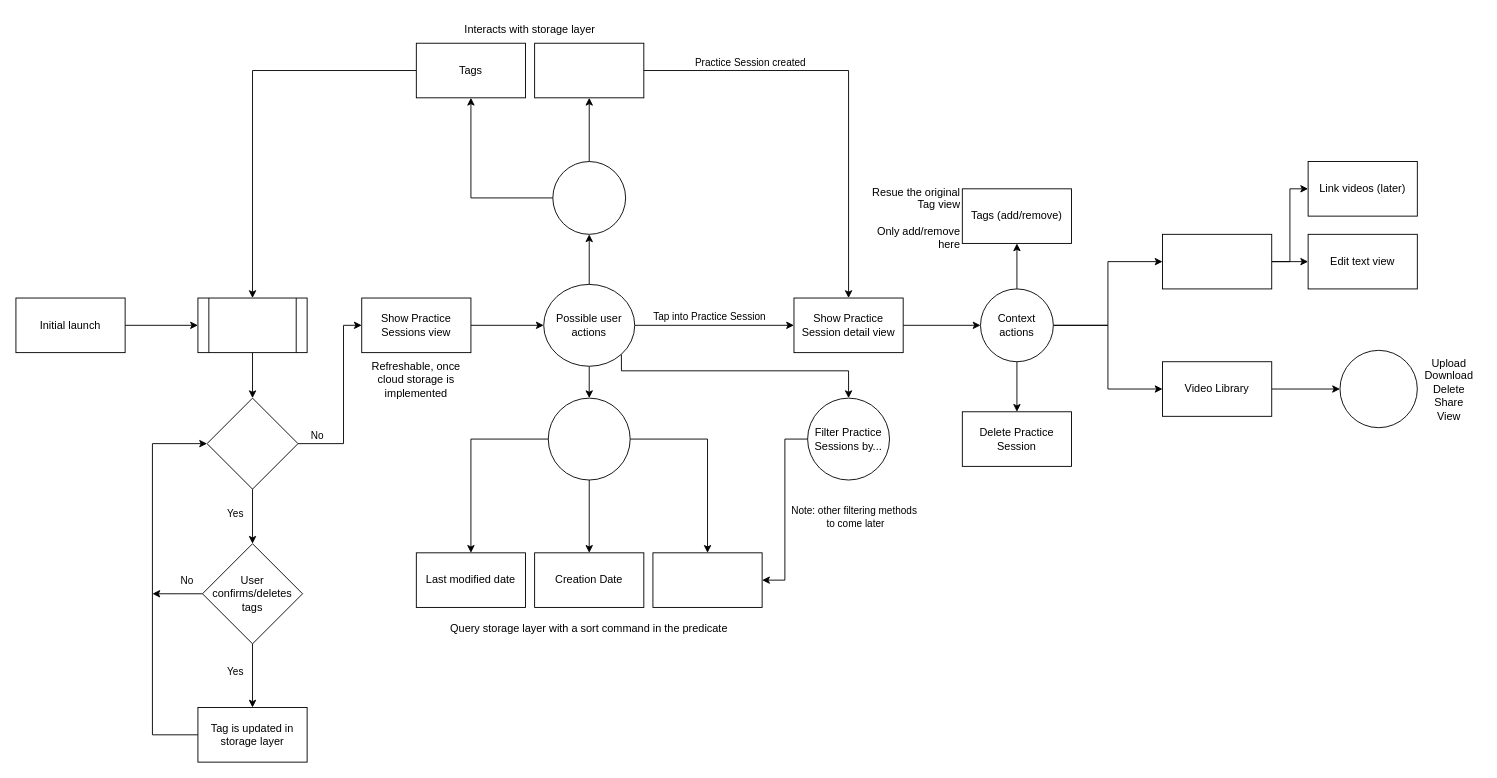
Image size: 1497x778. Some labels were removed from this diagram. The centre of each missing label's shape, as x and y in pixels:
Create/Delete: (x=589, y=197)
Notes: (x=1217, y=261)
Practice Session: (x=589, y=70)
Prompt to create category tags: (x=252, y=325)
Sort Practice Sessions by...: (x=588, y=438)
Tags (a-z, z-a): (x=707, y=579)
User actions: (x=1378, y=388)
User adds tags: (x=252, y=443)
